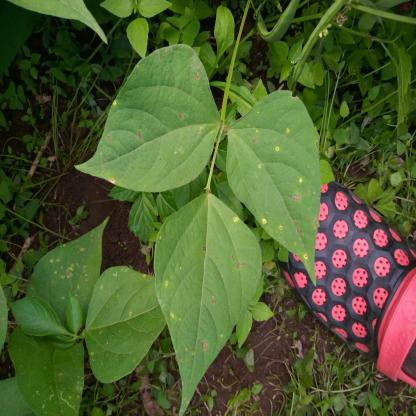Beans_Rust: (154, 187, 260, 407), (77, 46, 218, 192), (225, 92, 319, 265), (30, 213, 112, 332), (86, 266, 166, 382), (8, 325, 83, 416)
